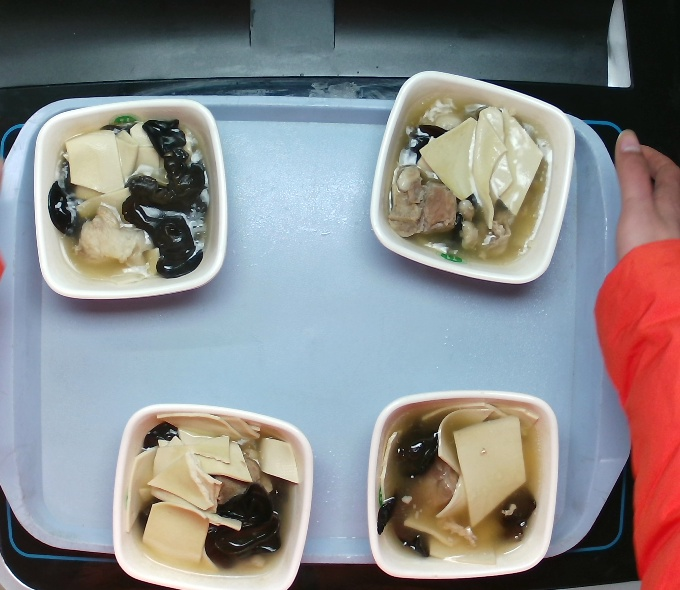wcq-QianZhangMuErTang: (379, 69, 556, 282), (36, 99, 224, 293), (123, 398, 309, 589), (360, 405, 567, 562)
